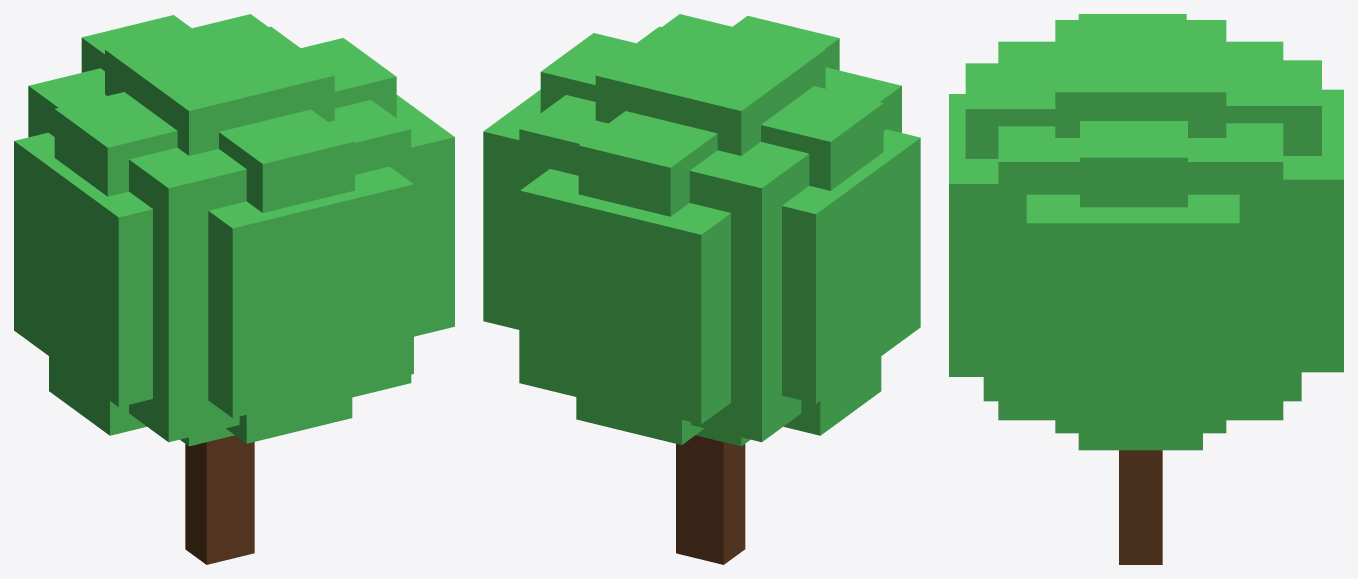
The model's file is PH_Tree.fbx.
3 renders of one model, left to right at view 1: azimuth 30°, elevation 25°; view 2: azimuth 150°, elevation 25°; view 3: azimuth 270°, elevation 25°, orthographic.
Visible parts, largest first — view 1: Cube.004, Cube.005, Cube.001, Cube.006, Cube.007, Cube.003, Cube.015, Cube.008, Cube.010, Cube.013, Cube.012, Cube.009; view 2: Cube.002, Cube.005, Cube.001, Cube.006, Cube.009, Cube.015, Cube.003, Cube.008, Cube.010, Cube.014, Cube.012, Cube.007; view 3: Cube.003, Cube.001, Cube.006, Cube.002, Cube.004, Cube.010, Cube.009, Cube.007, Cube.015, Cube.011, Cube, Cube.008 (+1 smaller).
Part boxes in pixels (x1,y1,x2,y2): Cube.004: (208,166,413,417); Cube.005: (14,132,152,406); Cube.001: (28,26,411,442); Cube.006: (105,14,334,155); Cube.007: (219,109,354,212); Cube.003: (396,95,454,336); Cube.015: (185,435,254,564); Cube.008: (54,92,177,196); Cube.010: (298,38,396,117); Cube.013: (226,389,352,443); Cube.012: (49,356,146,435); Cube.009: (81,15,191,72); Cube.002: (520,169,730,424); Cube.005: (782,129,920,403); Cube.001: (519,26,901,442); Cube.006: (595,14,825,155); Cube.009: (578,111,717,216); Cube.015: (676,435,745,564); Cube.003: (483,89,540,329); Cube.008: (761,86,883,190); Cube.010: (540,33,638,112); Cube.014: (576,394,704,444); Cube.012: (783,356,881,435); Cube.007: (732,16,839,70); Cube.003: (1026,194,1239,415); Cube.001: (998,41,1283,420); Cube.006: (1055,20,1226,137); Cube.002: (1283,89,1343,372); Cube.004: (949,94,998,376); Cube.010: (1080,121,1187,207); Cube.009: (1226,60,1321,155); Cube.007: (965,63,1055,158); Cube.015: (1119,450,1162,564); Cube.011: (1078,416,1202,450); Cube: (1055,420,1226,433); Cube.008: (1078,14,1186,19).
Size of the model in its own units: 390 by 545 by 392.
